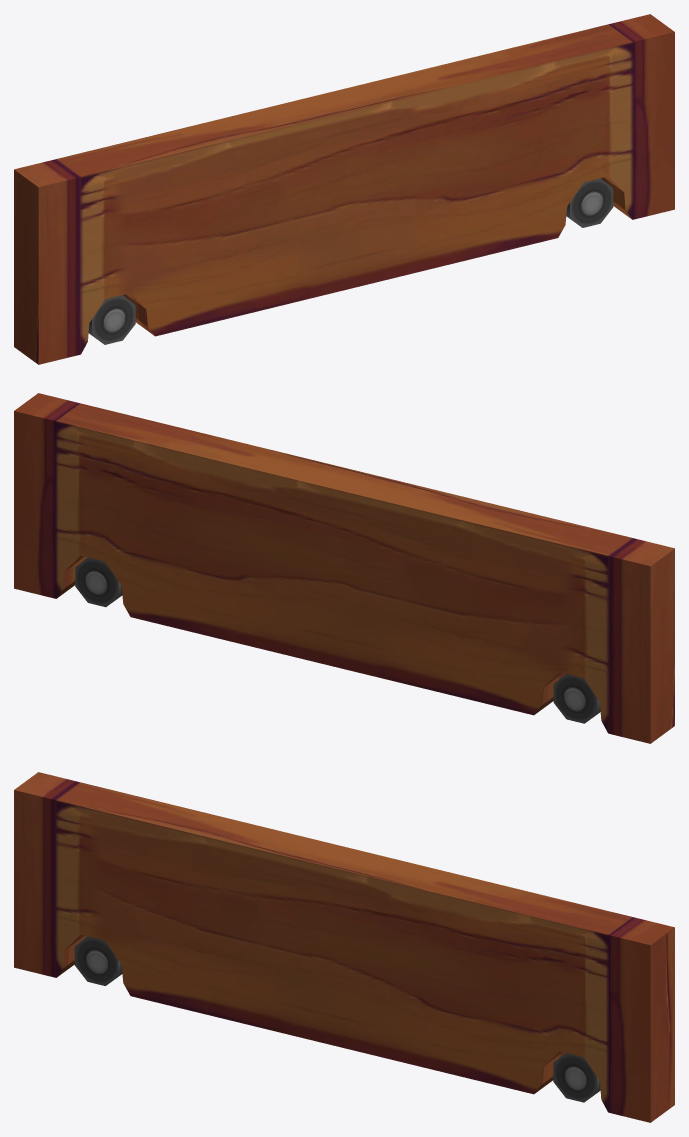
File: dynamic_fence_wood_02.fbx
3 views of the same model, one above another, from view 1: azimuth 30°, elevation 25°; view 2: azimuth 150°, elevation 25°; view 3: azimuth 330°, elevation 25° (orthographic).
Visible parts, largest first — view 1: dynamic_fence_wood_02; view 2: dynamic_fence_wood_02; view 3: dynamic_fence_wood_02.
Part boxes in pixels (box(x1,y1,x2,y2)): dynamic_fence_wood_02: box(14, 14, 674, 364); dynamic_fence_wood_02: box(14, 393, 674, 743); dynamic_fence_wood_02: box(14, 772, 674, 1122).
Size of the model in its own units: 150 by 40 by 10.08.
